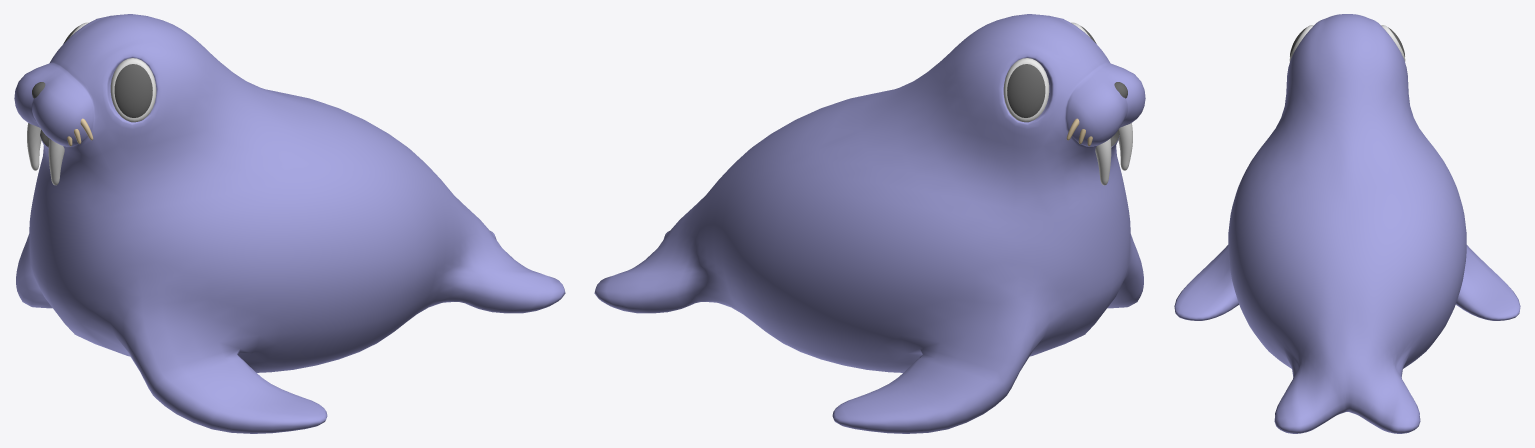
Rendered from Walrus_UV.glb.
3 views of the same model, side by side, from view 1: azimuth 30°, elevation 25°; view 2: azimuth 150°, elevation 25°; view 3: azimuth 270°, elevation 25° (orthographic). The views are drawn at different scales.
Parts seen in each view (by area): view 1: Body-Violet, Eye_2-Black, Teeth, Eye_2-White; view 2: Body-Violet, Eye-Black, Teeth, Eye-White; view 3: Body-Violet.
Boxes of the visible parts, x1=… form: Body-Violet: x1=14, y1=14, x2=565, y2=433; Eye_2-Black: x1=114, y1=64, x2=152, y2=117; Teeth: x1=27, y1=123, x2=64, y2=185; Eye_2-White: x1=110, y1=58, x2=156, y2=122; Body-Violet: x1=594, y1=14, x2=1145, y2=433; Eye-Black: x1=1007, y1=64, x2=1045, y2=117; Teeth: x1=1095, y1=123, x2=1132, y2=185; Eye-White: x1=1003, y1=58, x2=1049, y2=122; Body-Violet: x1=1174, y1=14, x2=1520, y2=433.
Size of the model in its own units: 150 by 101 by 117.
